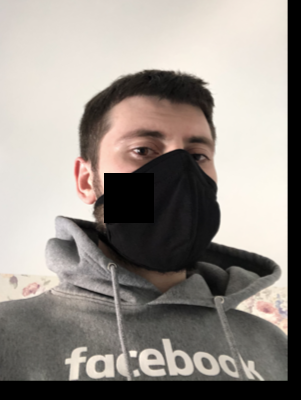with_mask: (102, 121, 220, 271)
